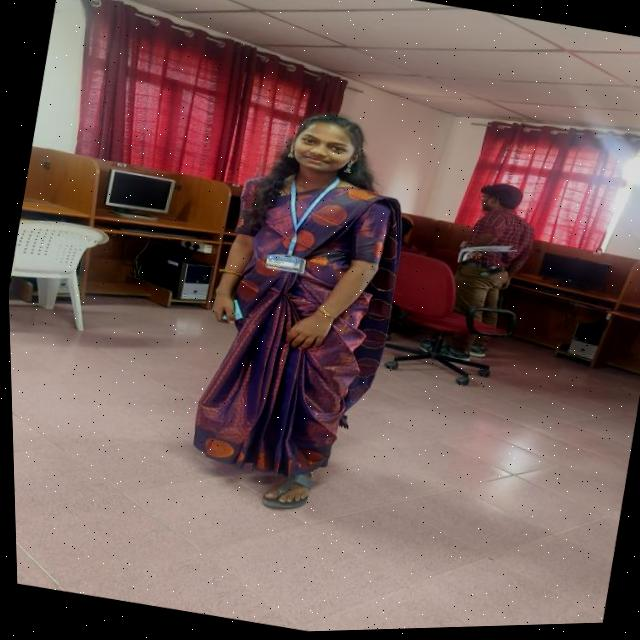id_card: (253, 167, 345, 295)
